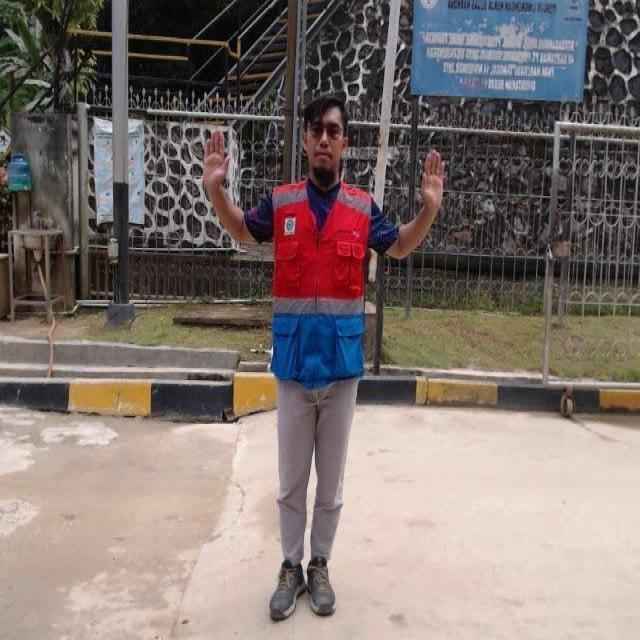safety_vest: (269, 182, 372, 385)
